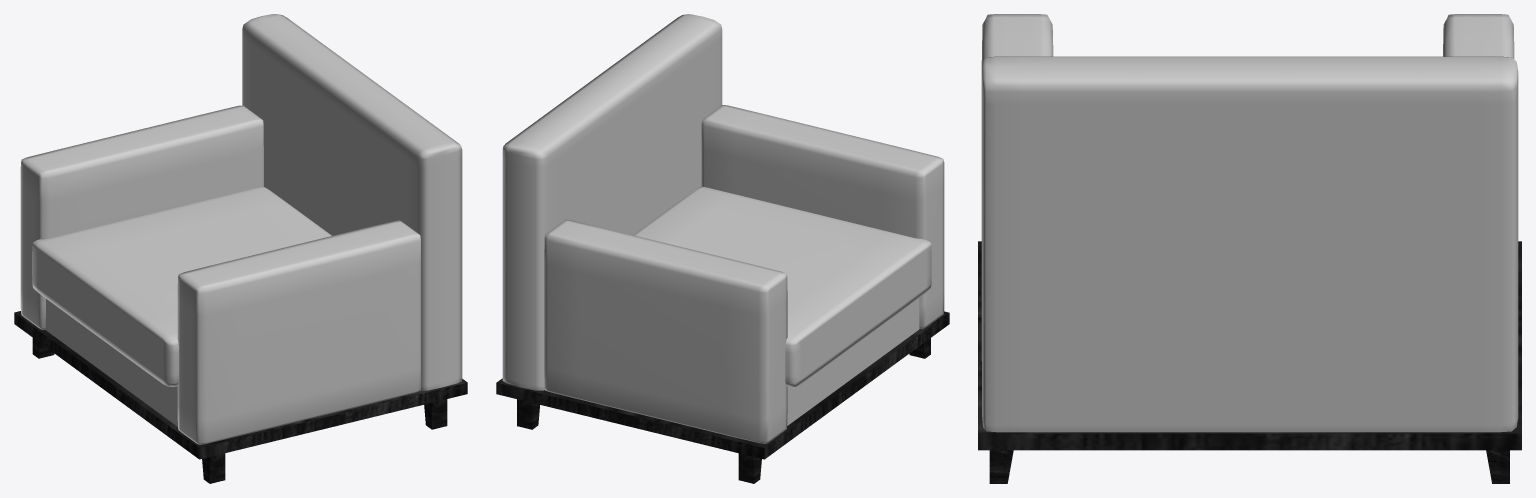
Rendered from Poltrona.fbx.
3 views of the same model, side by side, from view 1: azimuth 30°, elevation 25°; view 2: azimuth 150°, elevation 25°; view 3: azimuth 270°, elevation 25° (orthographic). The views are drawn at different scales.
Parts seen in each view (by area): view 1: Cube.010, Cube.004, Cube.001, Cube.002, Cube.005, Cube; view 2: Cube.002, Cube.004, Cube.001, Cube.010, Cube.005, Cube; view 3: Cube.004, Cube.005, Cube.010, Cube.002.
Boxes of the visible parts, box(x1,y1,x2,y2) form: Cube.010: box(177, 220, 420, 444); Cube.004: box(242, 14, 462, 390); Cube.001: box(32, 186, 331, 386); Cube.002: box(20, 105, 263, 329); Cube.005: box(14, 311, 467, 483); Cube: box(45, 299, 177, 426); Cube.002: box(544, 219, 787, 443); Cube.004: box(502, 14, 722, 390); Cube.001: box(633, 186, 931, 387); Cube.010: box(701, 105, 944, 329); Cube.005: box(496, 311, 949, 483); Cube: box(787, 298, 919, 425); Cube.004: box(982, 56, 1518, 432); Cube.005: box(978, 241, 1521, 483); Cube.010: box(981, 14, 1053, 360); Cube.002: box(1443, 14, 1514, 58).
Bounding box in the file's own units: 1384 × 1354 × 1616.
